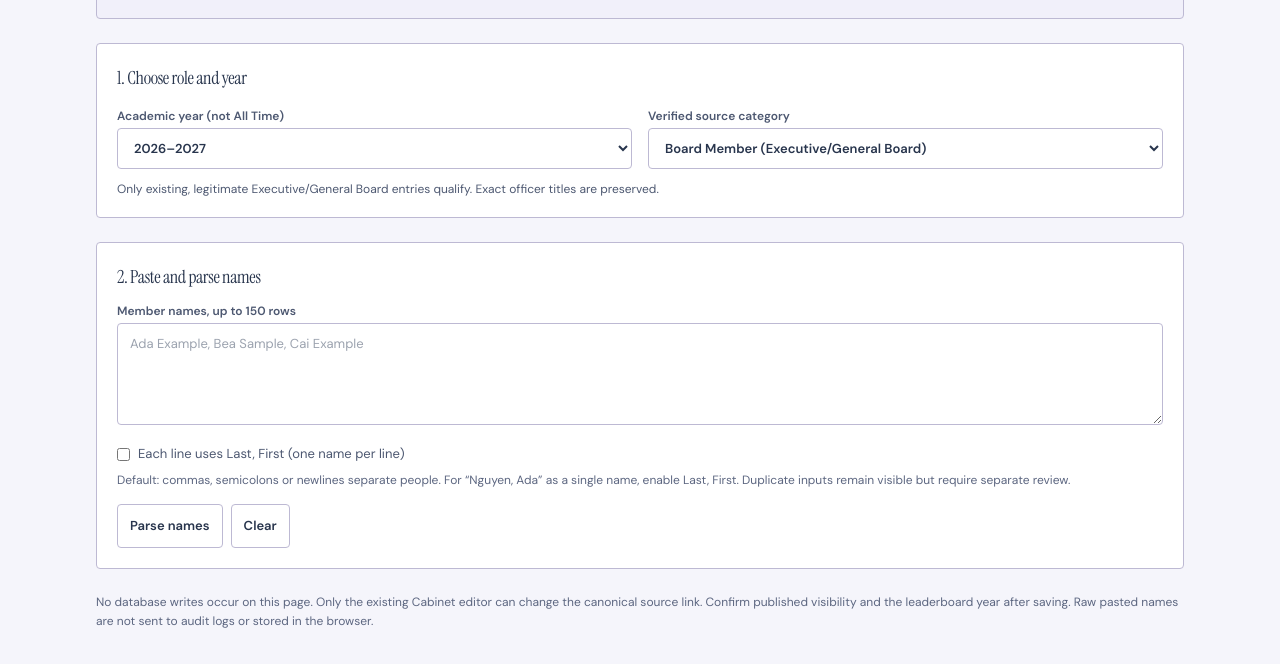
never offers an identity shortcut when two canonical members share the exact name
(page scrolled)
Type "Bea Sample" into the text box labelled "Member names, up to 150 rows" at (640, 374), box [117, 323, 1163, 425]
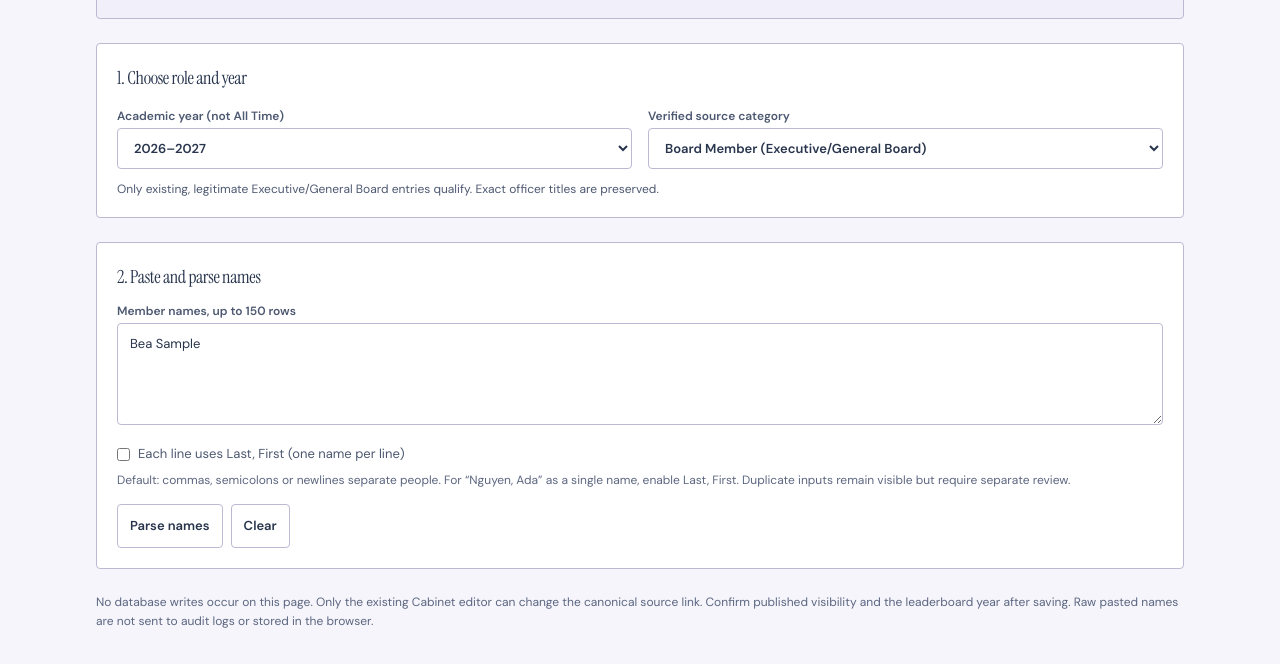
Click the button "Parse names" at (170, 526), box [117, 504, 223, 548]
(page scrolled)
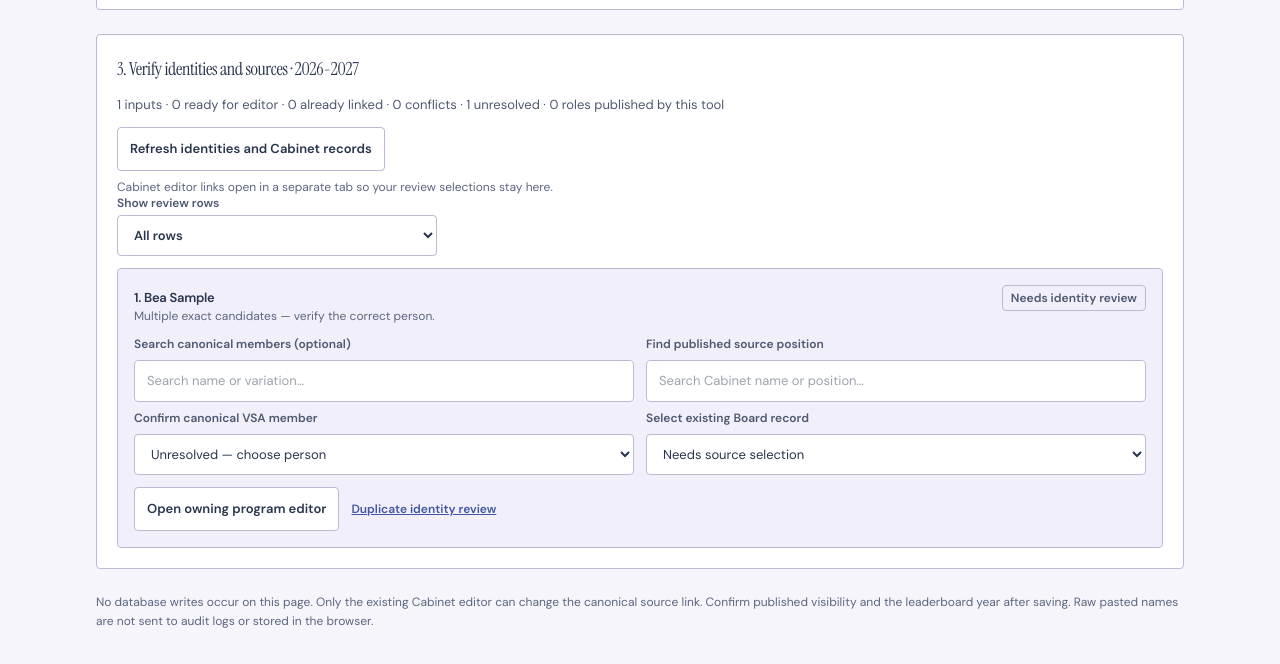
Result: the text "Multiple exact candidates — verify the correct person." is shown at [134, 308, 435, 324]
